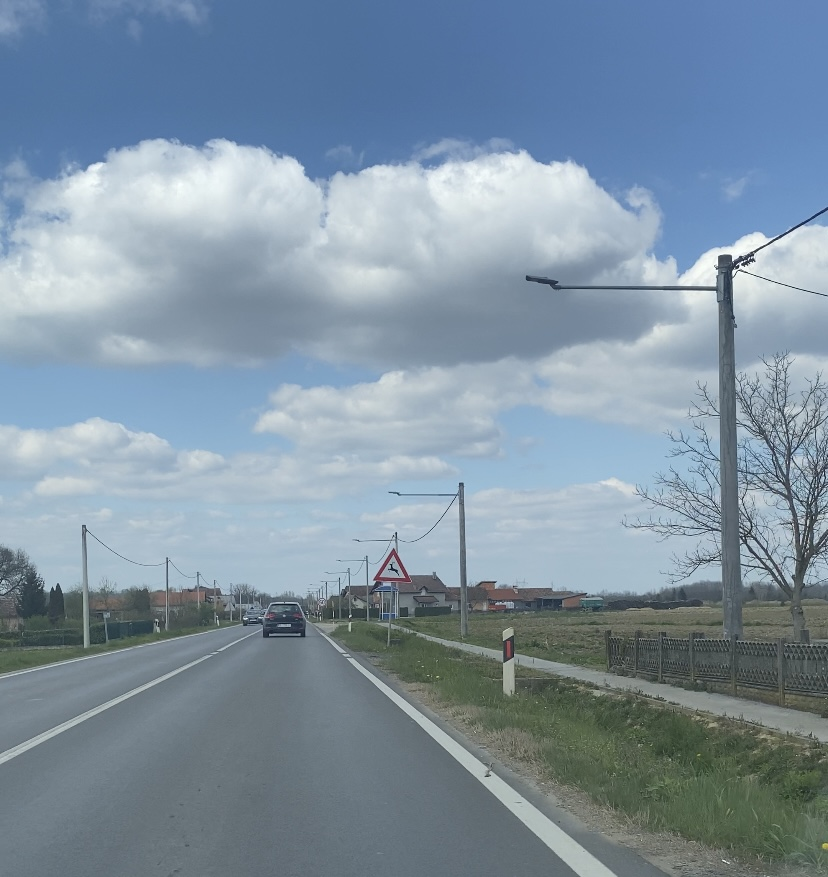Divljač na cesti: (373, 548, 412, 583)
